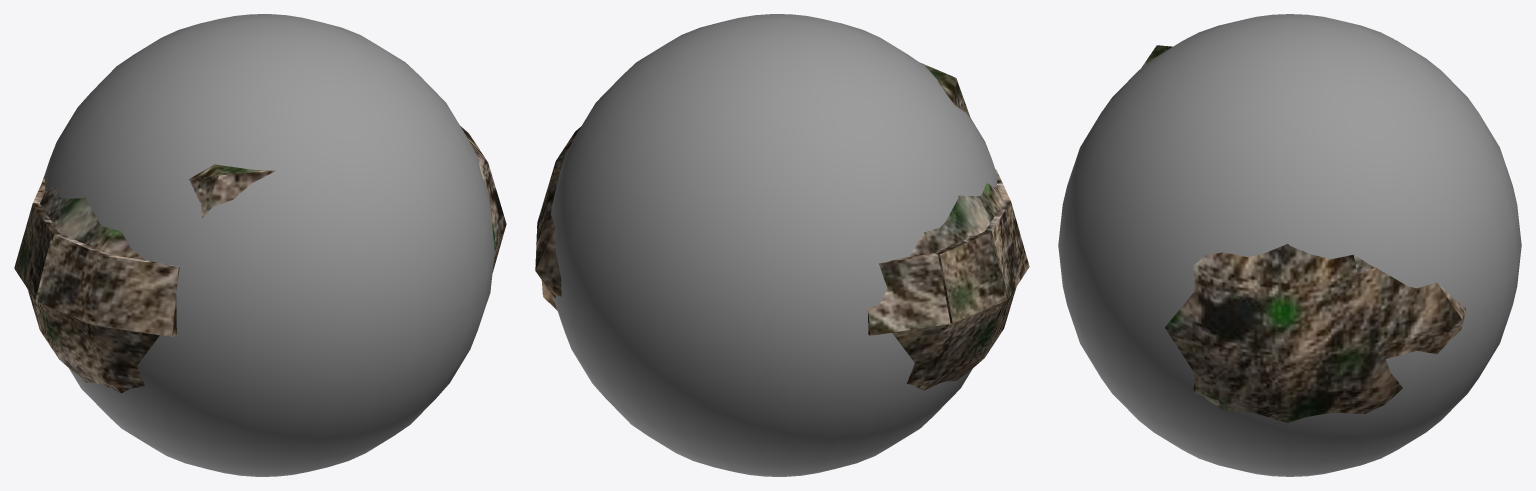
The model's file is stone2.fbx.
The picture shows the model from 3 angles, left to right: view 1: azimuth 30°, elevation 25°; view 2: azimuth 150°, elevation 25°; view 3: azimuth 270°, elevation 25°; orthographic projection.
Visible parts, largest first — view 1: BoundingSphere, Sphere001; view 2: BoundingSphere, Sphere001; view 3: BoundingSphere, Sphere001.
Part boxes in pixels (x1,y1,x2,y2): BoundingSphere: [42, 14, 494, 476]; Sphere001: [14, 126, 506, 393]; BoundingSphere: [551, 14, 997, 476]; Sphere001: [535, 63, 1029, 390]; BoundingSphere: [1058, 14, 1521, 476]; Sphere001: [1141, 45, 1465, 423].
Bounding box in the file's own units: 150 × 134 × 134.
